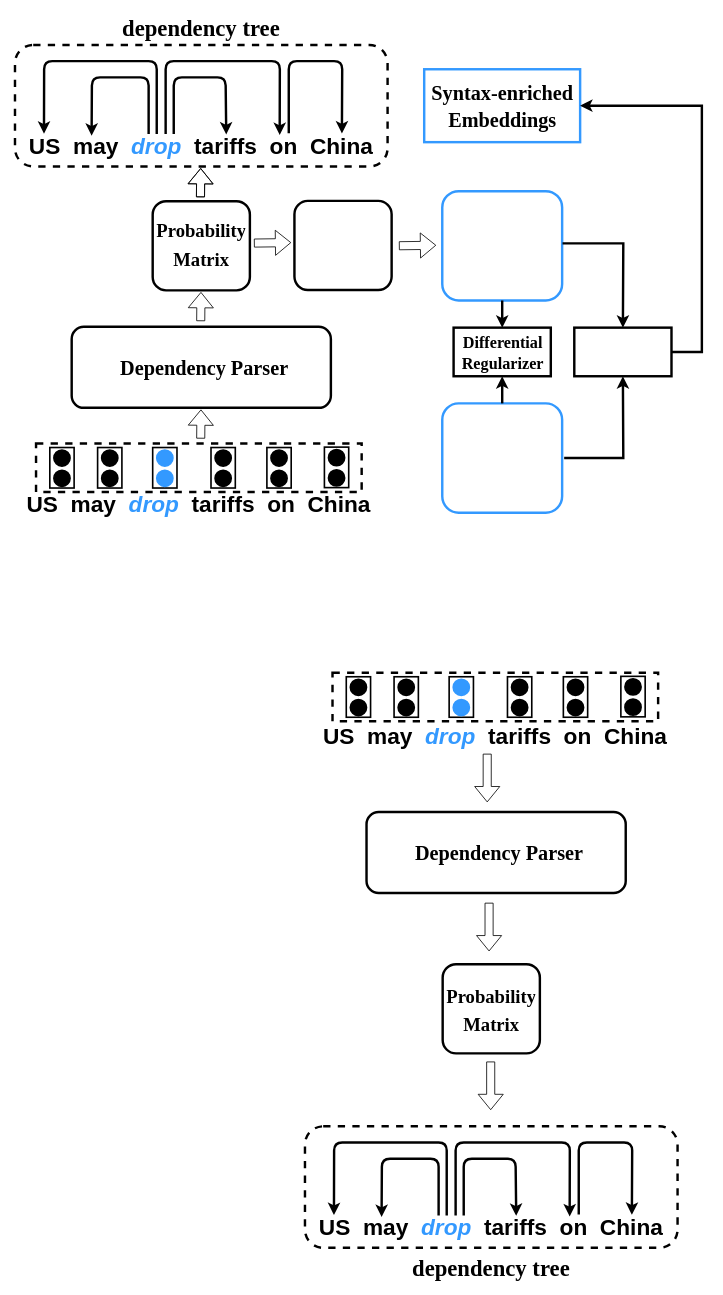
This 723x1295 diagram has some shape labels left out. The shapes that lost their labels are listed below. From the top down, each one's box as (x1, y1, x2, y2) in pixels, then its label:
(293, 199, 392, 291): SGN
(441, 190, 563, 301): SK-based Event Embeddings
(573, 326, 672, 377): BiAffine
(441, 402, 563, 514): Contextual Event Embeddings
